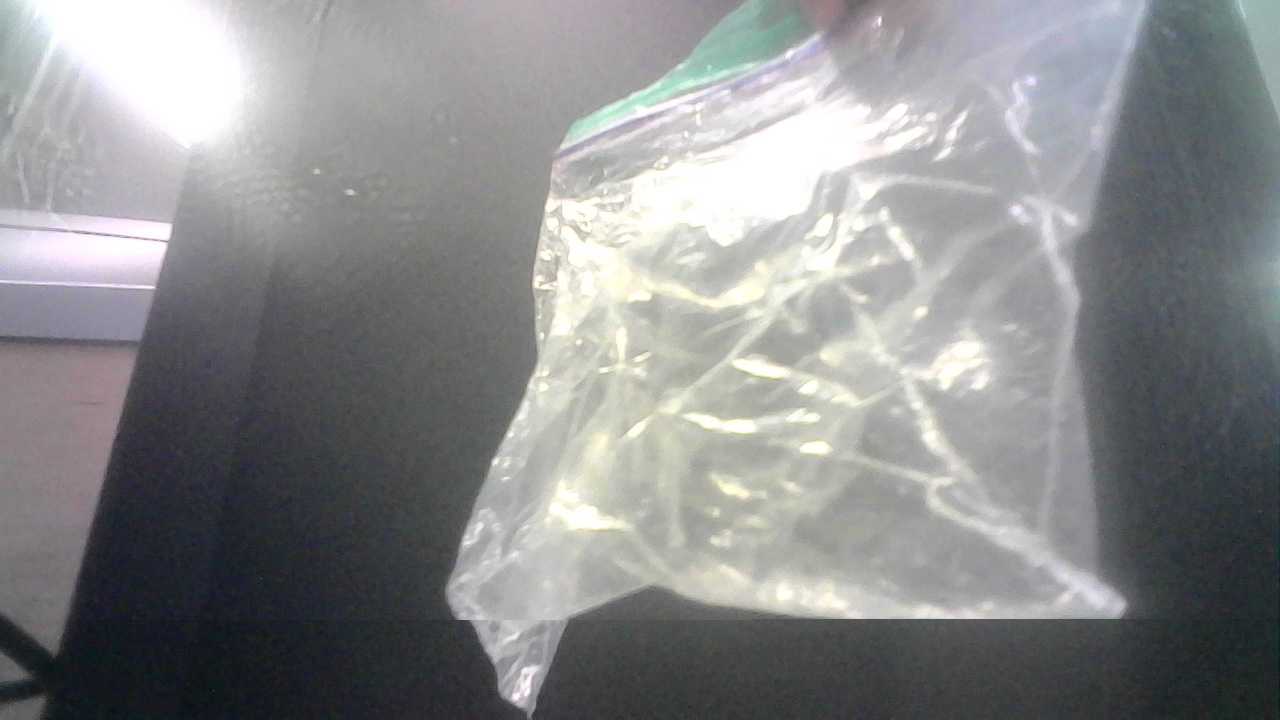Plastic_Recycling: (348, 24, 1071, 676)
